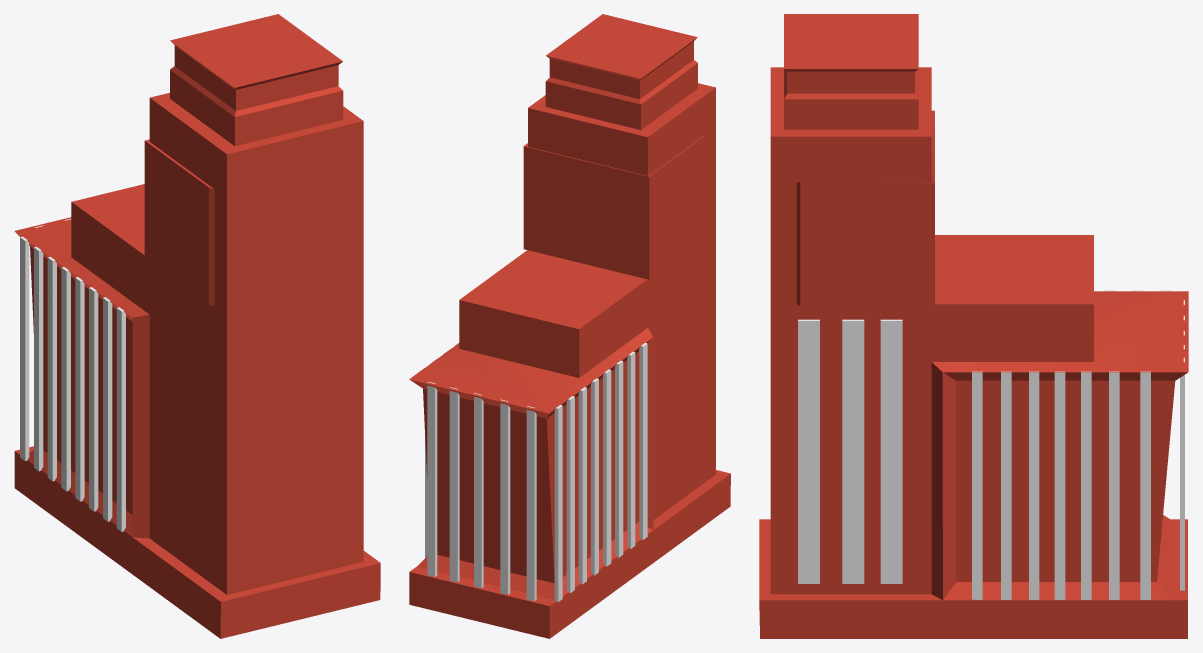
The model's file is Building_4_Red.glb.
The picture shows the model from 3 angles, left to right: view 1: azimuth 30°, elevation 25°; view 2: azimuth 150°, elevation 25°; view 3: azimuth 270°, elevation 25°; orthographic projection. The views are drawn at different scales.
Parts seen in each view (by area): view 1: polySurface26; view 2: polySurface26; view 3: polySurface26.
Boxes of the visible parts, <box> form: polySurface26: <box>14,14,380,638</box>; polySurface26: <box>409,14,730,638</box>; polySurface26: <box>759,14,1188,638</box>.
Bounding box in the file's own units: 31.64 × 100 × 69.98.
